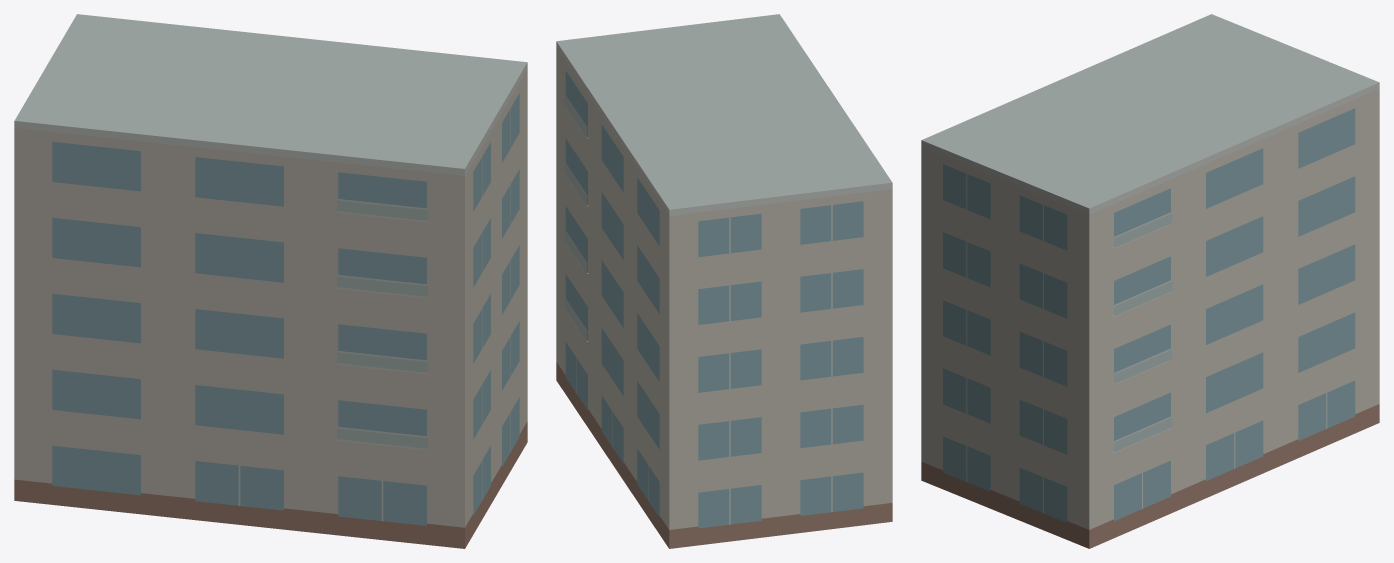
File: survey-upis-32845286.glb
3 renders of one model, left to right at view 1: azimuth 30°, elevation 25°; view 2: azimuth 150°, elevation 25°; view 3: azimuth 270°, elevation 25°, orthographic. The views are drawn at different scales.
Visible parts, largest first — view 1: survey-upis-32845286.tmp; view 2: survey-upis-32845286.tmp; view 3: survey-upis-32845286.tmp.
Boxes of the visible parts, box(x1,y1,x2,y2) form: survey-upis-32845286.tmp: box(14, 14, 527, 548); survey-upis-32845286.tmp: box(556, 14, 892, 548); survey-upis-32845286.tmp: box(921, 14, 1379, 548).
Size of the model in its own units: 16.19 by 13.2 by 16.11.
